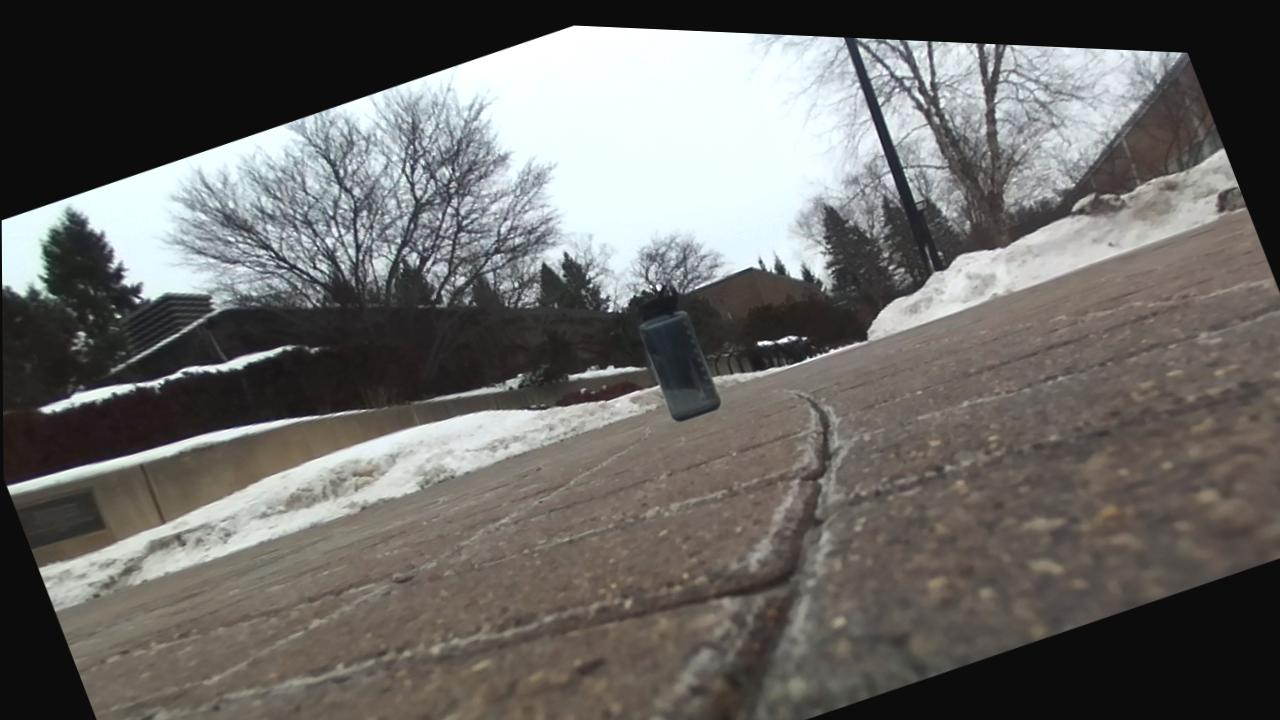bottle: (638, 285, 720, 420)
